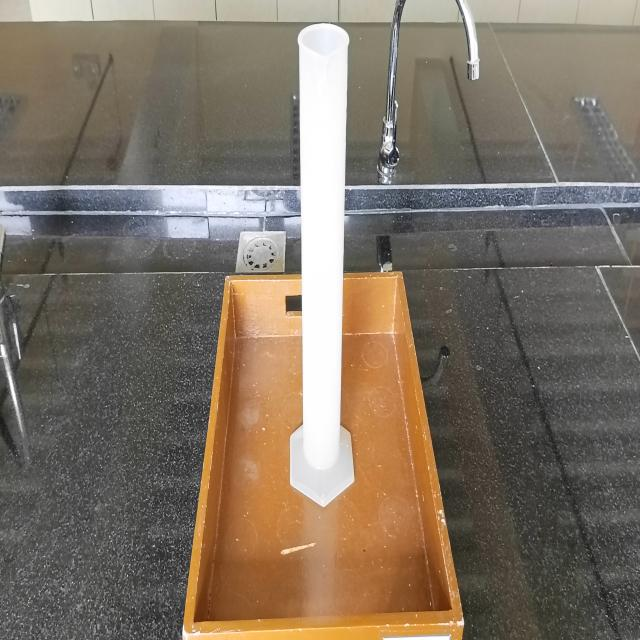graduated_cylinder: (285, 17, 361, 514)
